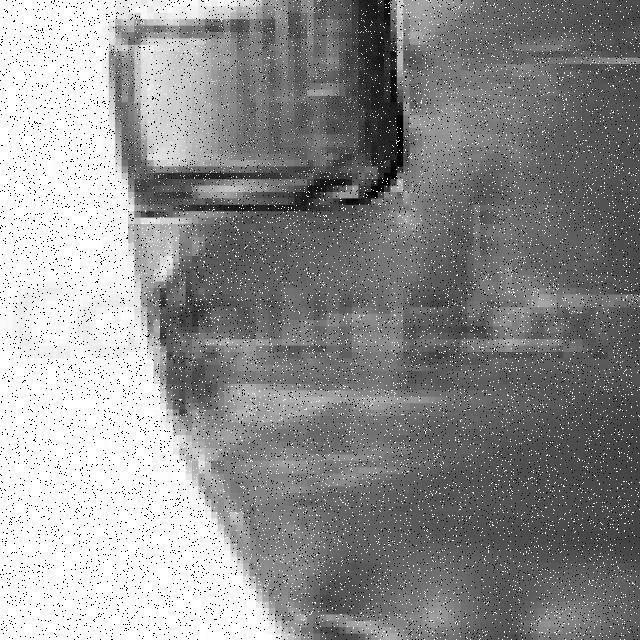rear-bumper-dent: (14, 1, 635, 634)
